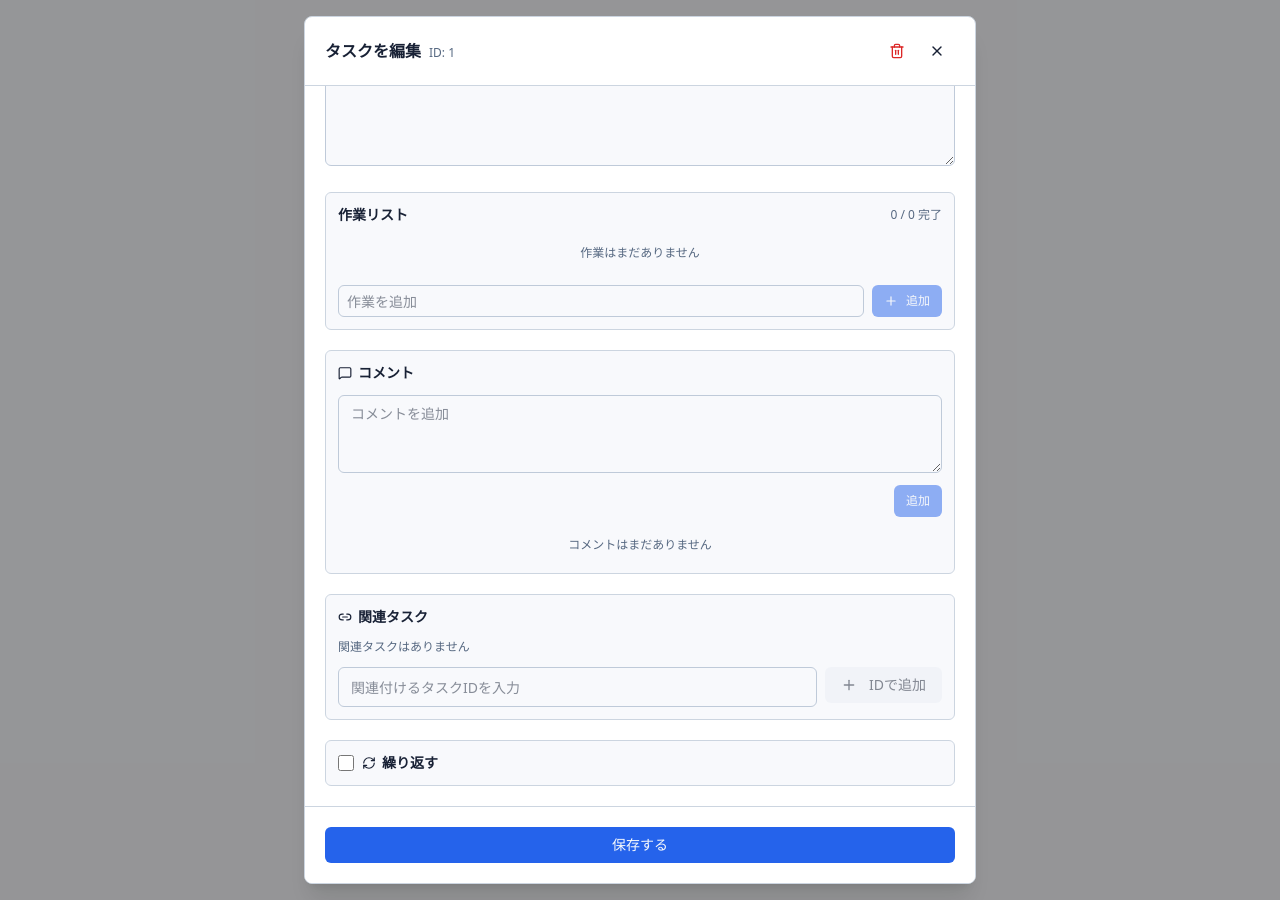
it: TaskDrawer › 存在しないタスクIDは関連付けずエラーを表示する
The width and height of the screenshot is (1280, 900).
(page scrolled)
Type "999" into the field named "タスクIDで関連タスクを追加".
click(578, 687); type("999")  # box x1=338 y1=667 x2=817 y2=707
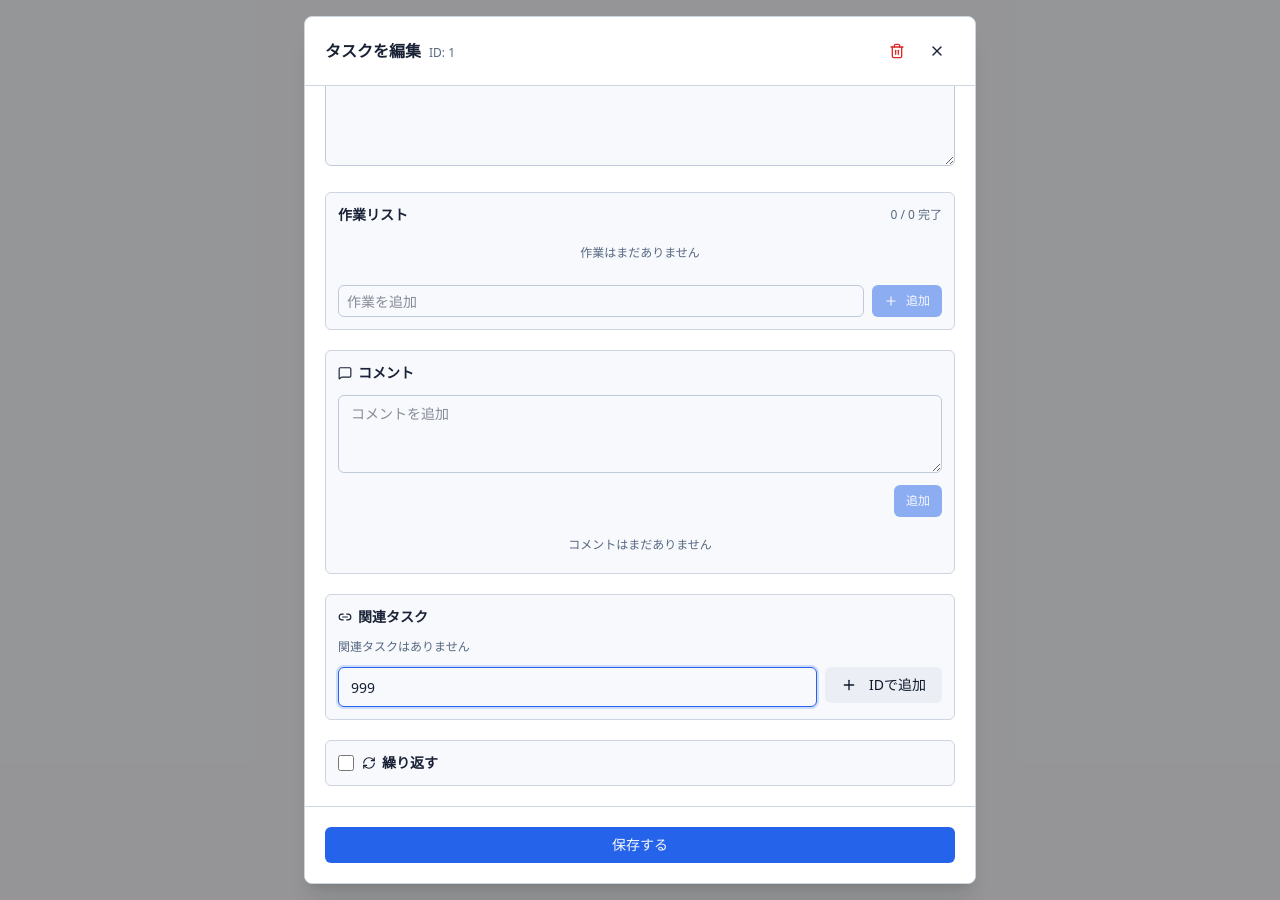
Click the button with aria-label "入力したタスクIDを追加する".
click(884, 685)  # box x1=825 y1=667 x2=942 y2=703
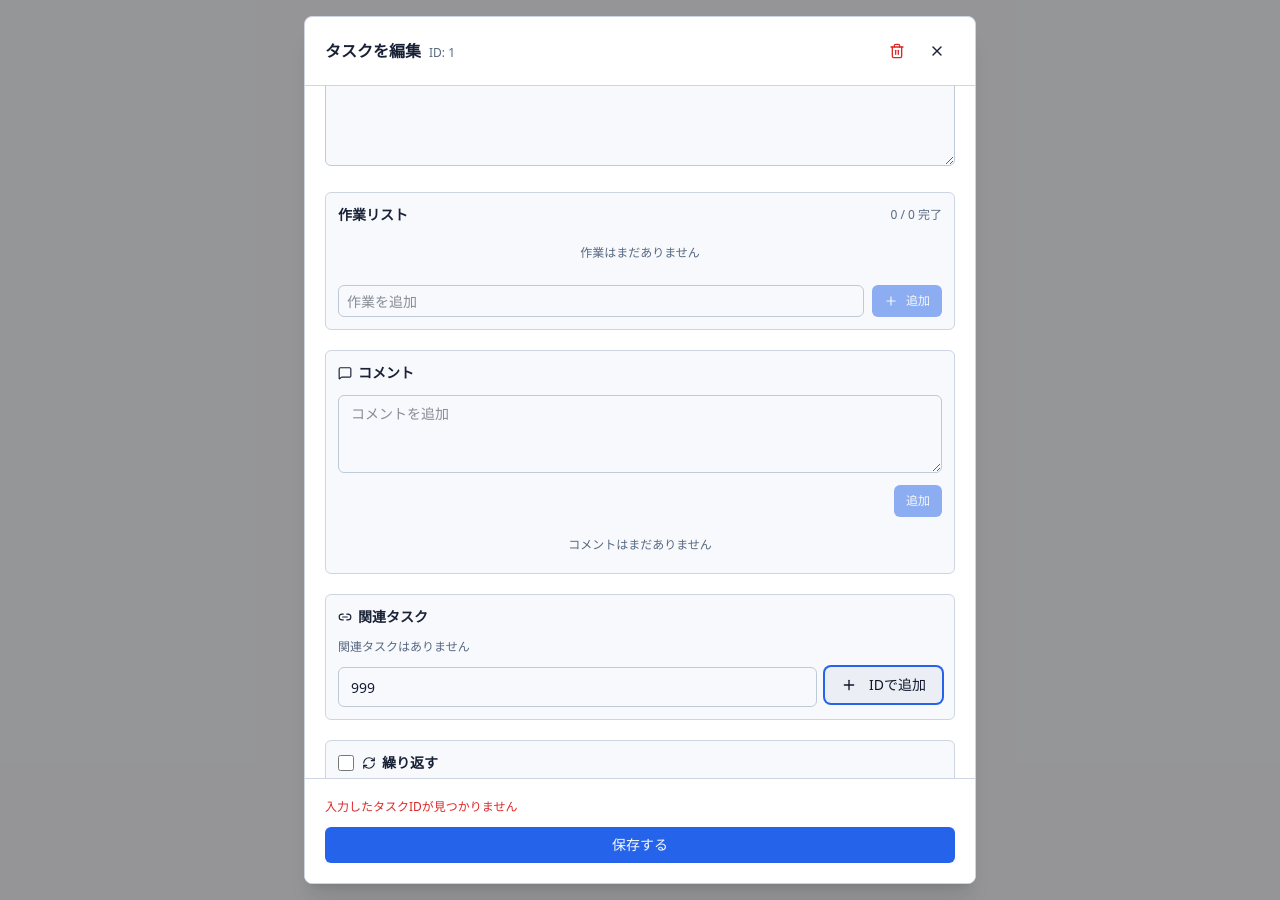
Now the message reads "入力したタスクIDが見つかりません", box x1=325 y1=798 x2=518 y2=815
